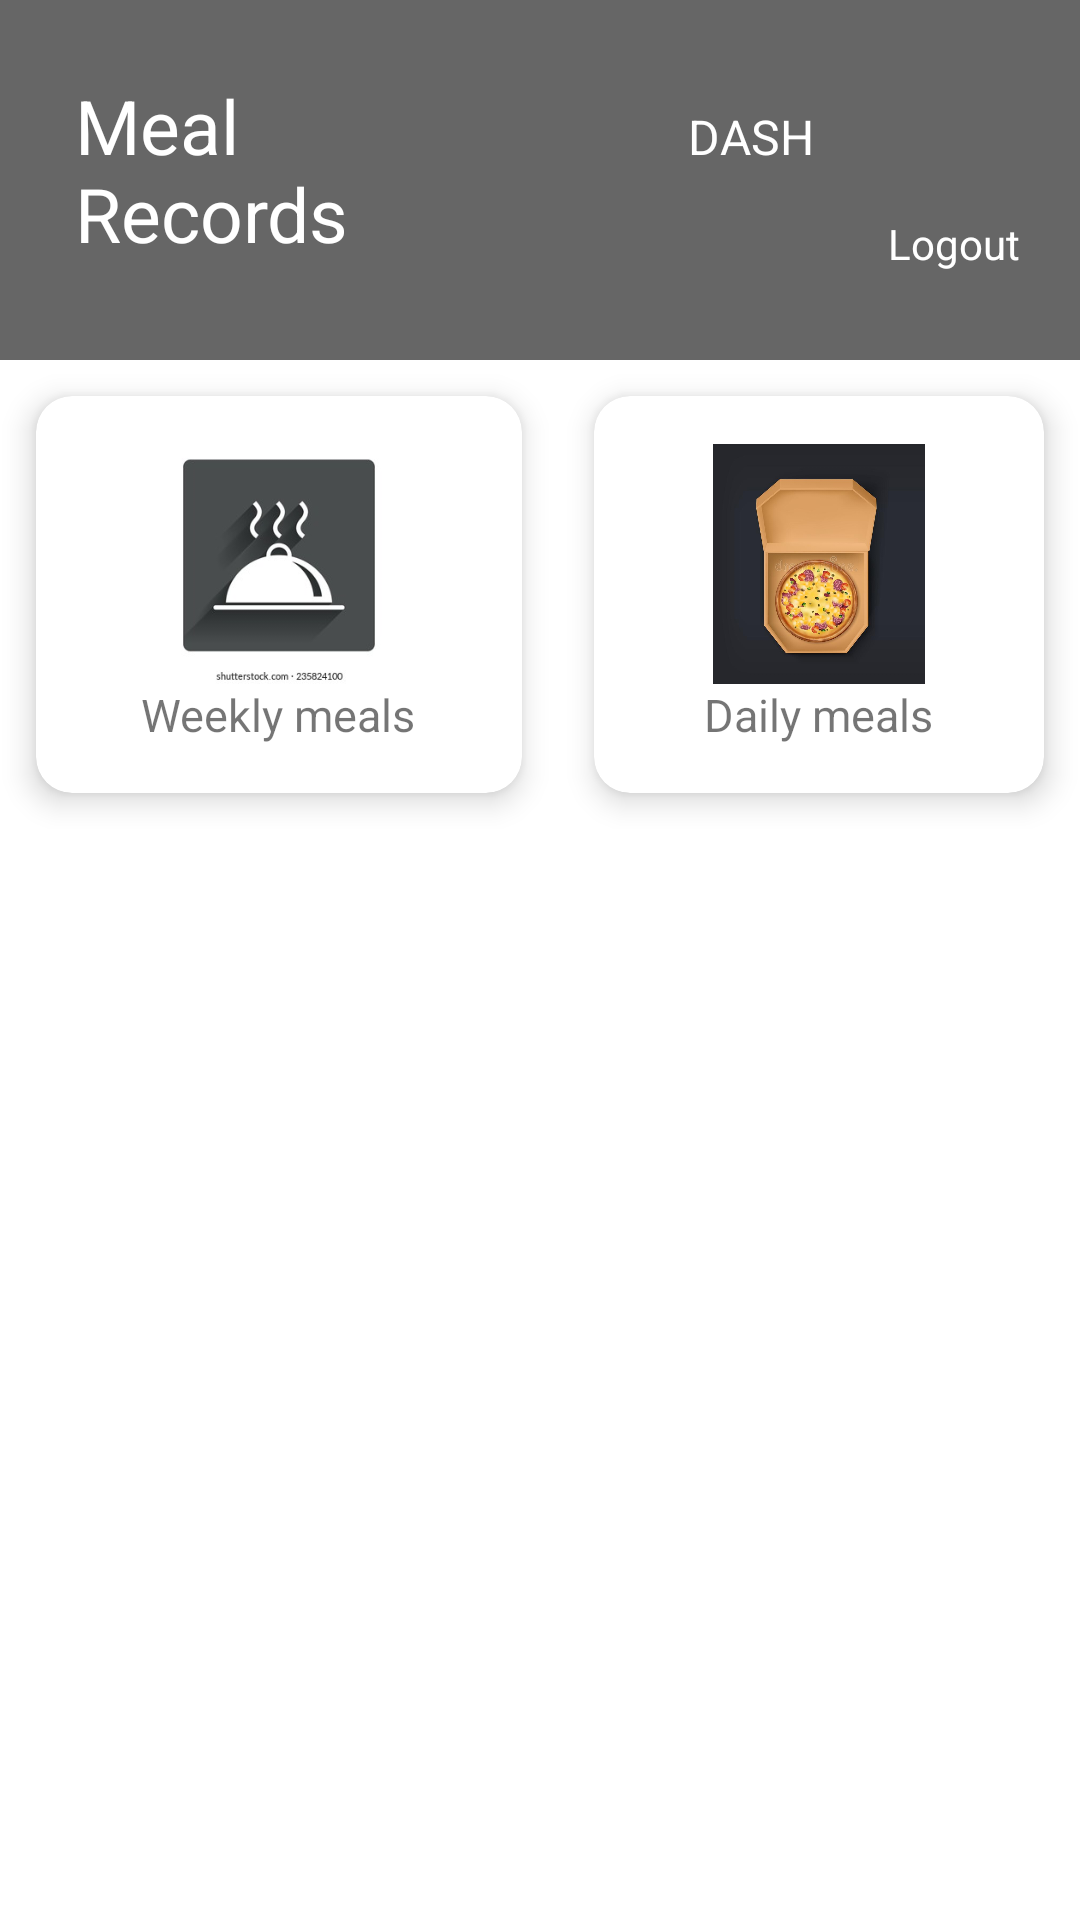

Named icons in this screenshot (1080w x 1920h) and their centers, (x,y):
foodplatter: (279,569)
packagepizza: (819,564)
